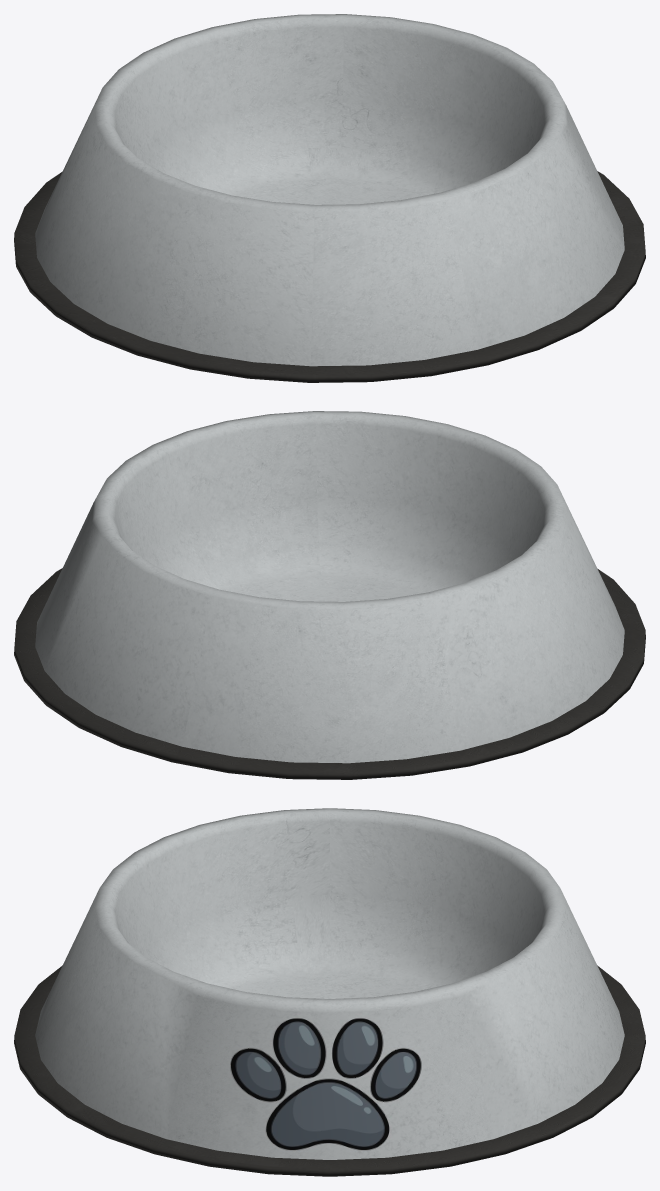
File: mama_kabi.glb
The picture shows the model from 3 angles, top to bottom: view 1: azimuth 30°, elevation 25°; view 2: azimuth 150°, elevation 25°; view 3: azimuth 270°, elevation 25°; orthographic projection.
Parts seen in each view (by area): view 1: pet-bowl; view 2: pet-bowl; view 3: pet-bowl.
Part boxes in pixels (bbox=[...]): pet-bowl: bbox=[14, 14, 645, 382]; pet-bowl: bbox=[14, 411, 645, 779]; pet-bowl: bbox=[14, 808, 645, 1176].
Size of the model in its own units: 0.2688 by 0.0645 by 0.2688.
2 materials, 2 textured.
